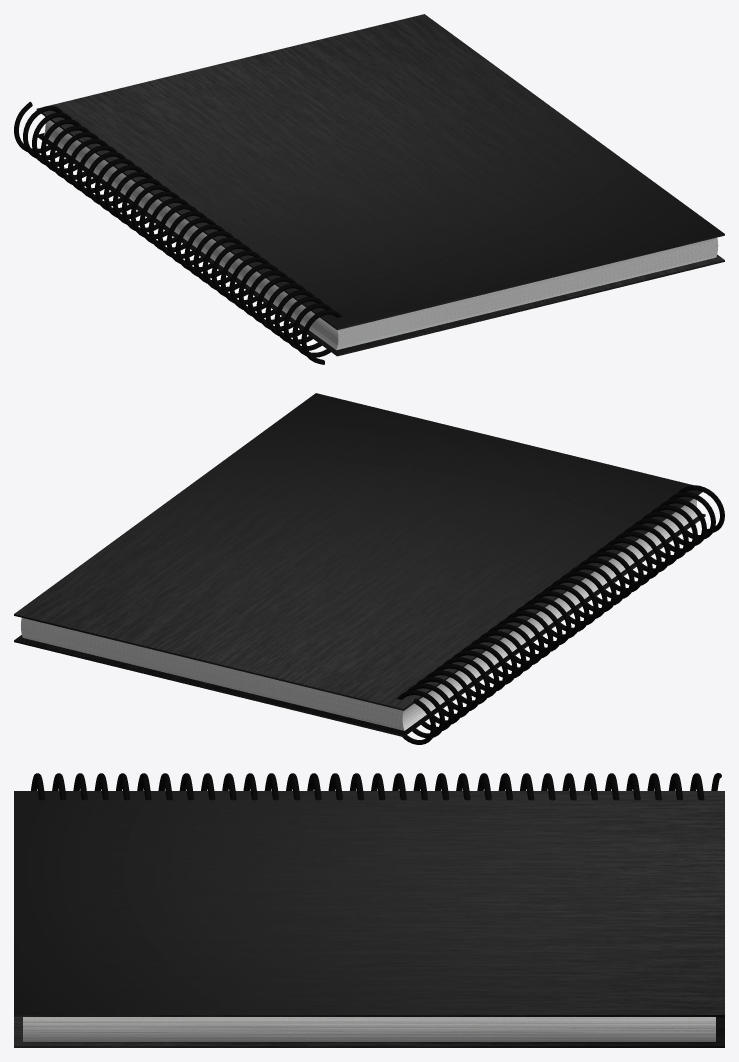
The model's file is SpiralNoteBookBlack.fbx.
3 views of the same model, one above another, from view 1: azimuth 30°, elevation 25°; view 2: azimuth 150°, elevation 25°; view 3: azimuth 270°, elevation 25° (orthographic). The views are drawn at different scales.
Visible parts, largest first — view 1: Cover, Ring, Paper, Note; view 2: Cover, Ring, Paper, Note; view 3: Cover, Paper, Ring.
Boxes of the visible parts, bbox=[...] form: Cover: bbox=[36, 14, 724, 356]; Ring: bbox=[14, 101, 341, 364]; Paper: bbox=[336, 237, 718, 349]; Note: bbox=[43, 116, 338, 349]; Cover: bbox=[14, 393, 705, 737]; Ring: bbox=[397, 485, 724, 744]; Paper: bbox=[21, 618, 404, 730]; Note: bbox=[402, 499, 697, 730]; Cover: bbox=[14, 791, 724, 1047]; Paper: bbox=[23, 1017, 715, 1041]; Ring: bbox=[31, 773, 721, 800].
Bounding box in the file's own units: 47.83 × 5.5 × 60.
